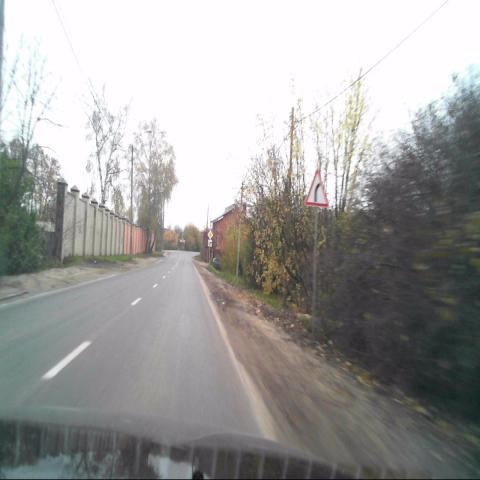1_11: (304, 169, 328, 207)
